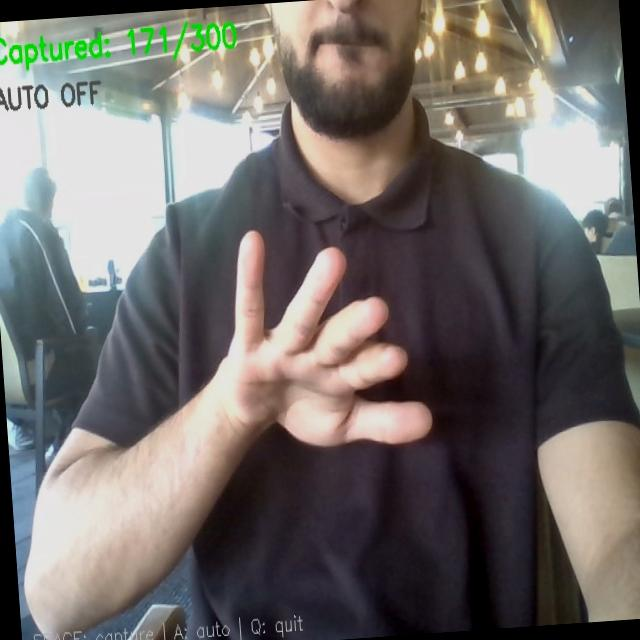Hand: (215, 232, 431, 446)
